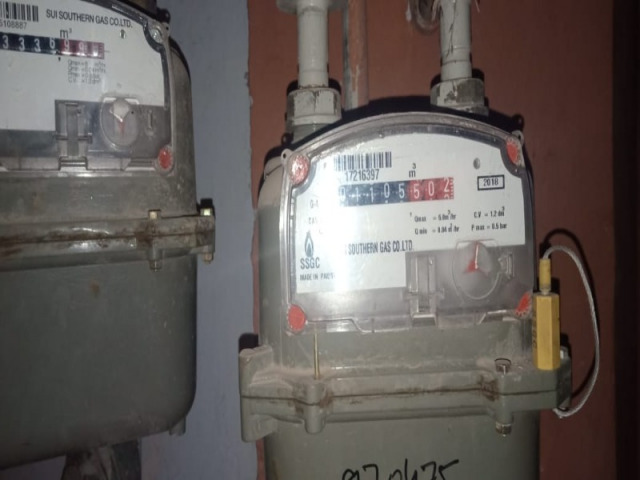ssgc: (334, 178, 458, 208), (1, 31, 107, 61)
